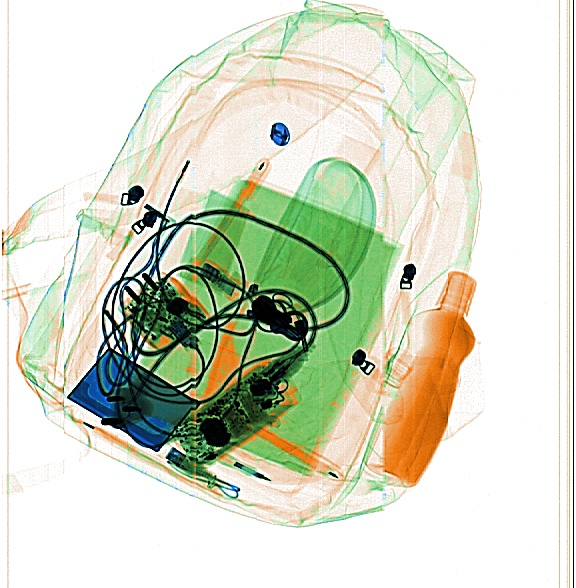bottle: (355, 267, 487, 491)
flashdrive: (188, 253, 241, 305)
